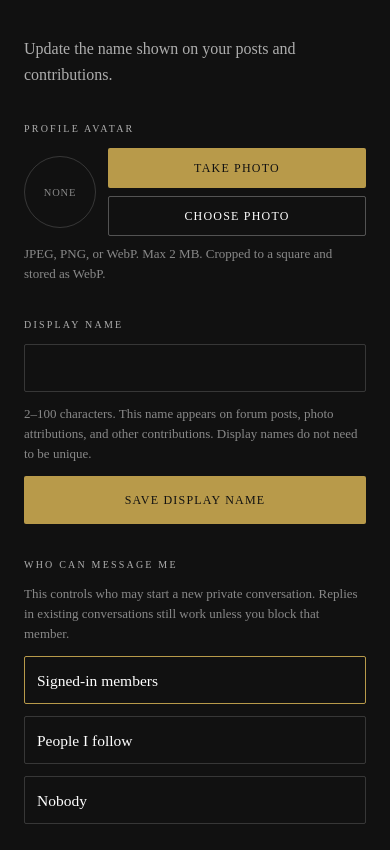
SettingsScreen notifications › saves the display name and messaging privacy
This screenshot has width=390, height=850.
Clear the field named "Display name": (195, 368) x1=24 y1=344 x2=366 y2=392
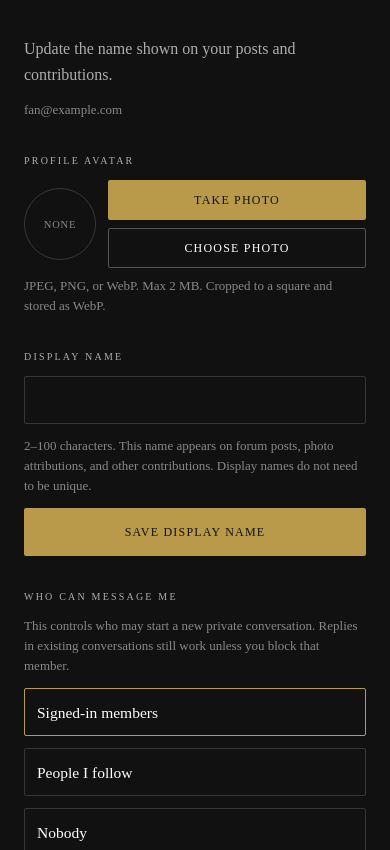
In the field named "Display name": (195, 400) x1=24 y1=376 x2=366 y2=424, type "Brian"
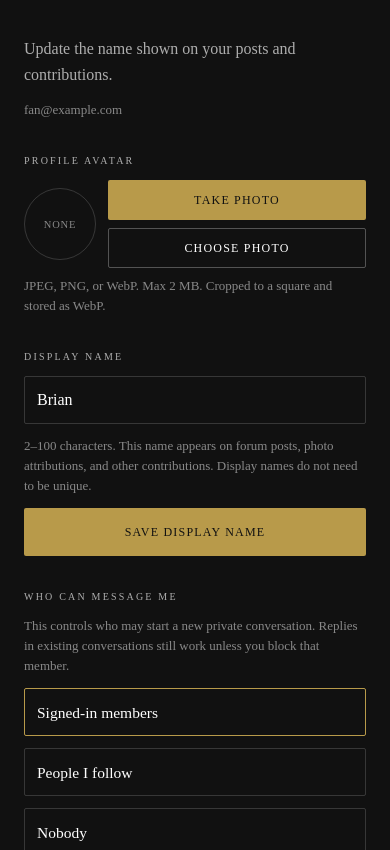
Click the button "Save display name": (195, 532) x1=24 y1=508 x2=366 y2=556
(page scrolled)
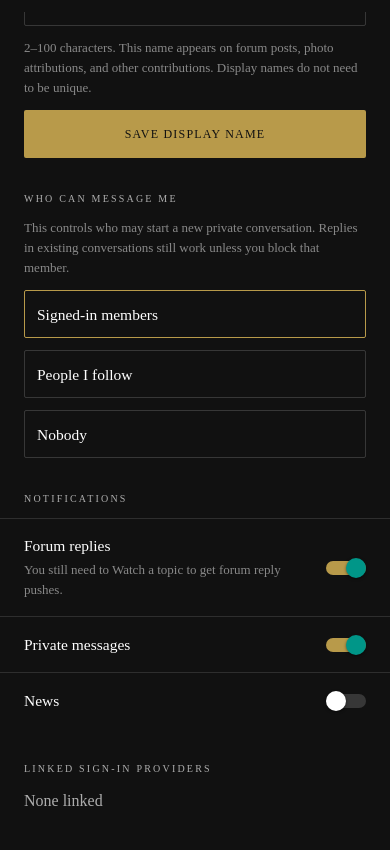
Click the radio button labelled "Nobody": (195, 434) x1=24 y1=410 x2=366 y2=458
(page scrolled)
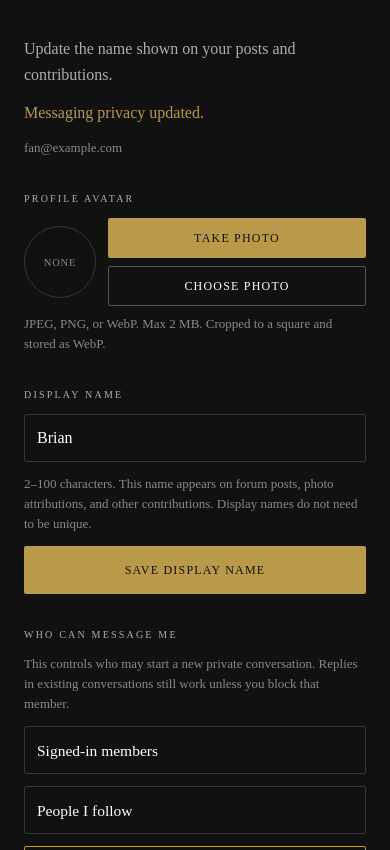
Expected: the text "Messaging privacy updated." is shown, x1=24 y1=104 x2=204 y2=121
